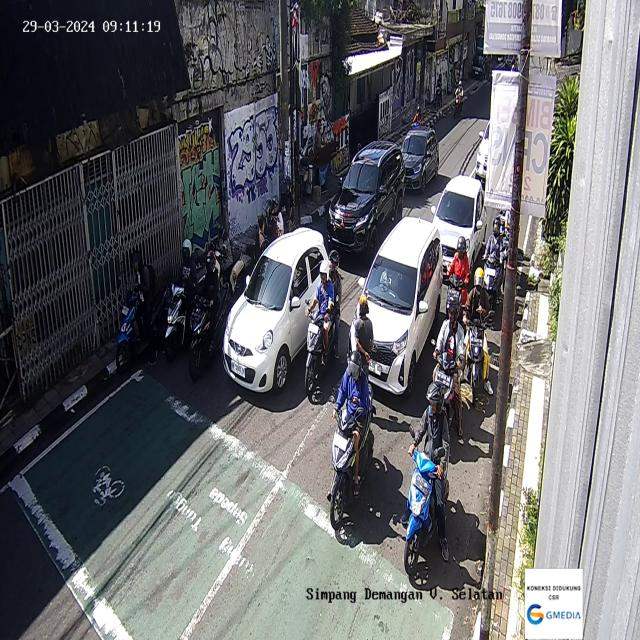car: (222, 226, 332, 394), (352, 216, 443, 397), (327, 139, 406, 260), (427, 174, 487, 283), (400, 126, 439, 192), (476, 118, 491, 182)
motorcycle: (402, 382, 449, 574), (327, 350, 376, 530), (115, 248, 173, 372), (188, 249, 232, 381), (304, 248, 343, 396), (165, 238, 208, 362), (430, 293, 466, 439), (462, 266, 492, 408), (206, 216, 245, 294), (446, 234, 470, 326), (481, 217, 503, 314), (253, 197, 284, 256), (272, 176, 296, 232), (502, 207, 512, 290), (452, 80, 464, 120), (411, 106, 424, 128)
